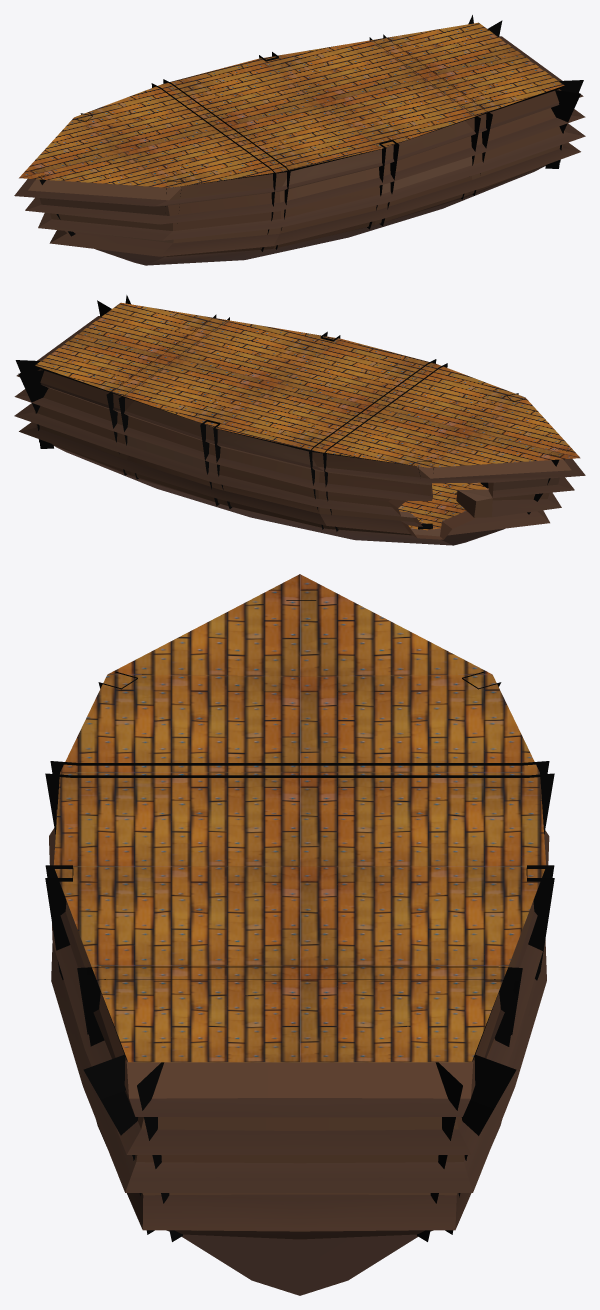
File: Shiip_0_damage_small_R_groundfloor.fbx
3 renders of one model, top to bottom at view 1: azimuth 30°, elevation 25°; view 2: azimuth 150°, elevation 25°; view 3: azimuth 270°, elevation 25°, orthographic. The views are drawn at different scales.
Visible parts, largest first — view 1: ship hull_damage_small_R_groundfloor; view 2: ship hull_damage_small_R_groundfloor; view 3: ship hull_damage_small_R_groundfloor.
Part boxes in pixels (bbox=[...]): ship hull_damage_small_R_groundfloor: bbox=[14, 15, 585, 265]; ship hull_damage_small_R_groundfloor: bbox=[14, 295, 585, 545]; ship hull_damage_small_R_groundfloor: bbox=[45, 574, 554, 1295].
Size of the model in its own units: 853 by 208 by 355.
